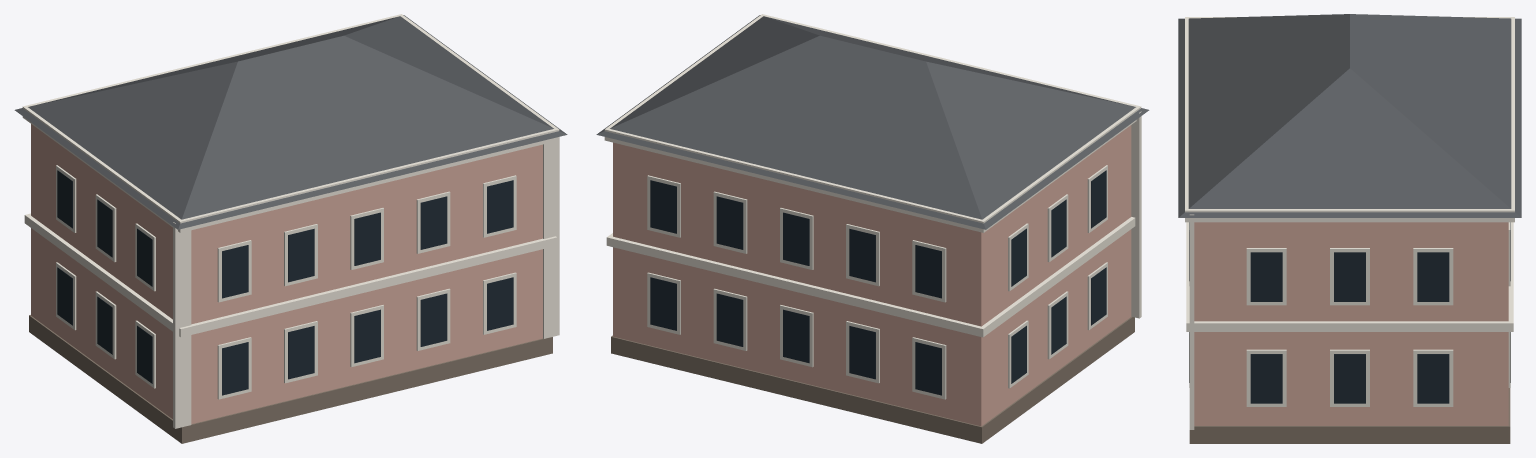
The model's file is old_pink.glb.
3 renders of one model, left to right at view 1: azimuth 30°, elevation 25°; view 2: azimuth 150°, elevation 25°; view 3: azimuth 270°, elevation 25°, orthographic. The views are drawn at different scales.
Visible parts, largest first — view 1: old_pink; view 2: old_pink; view 3: old_pink.
Boxes of the visible parts, <box> form: old_pink: <box>14,14,567,443</box>; old_pink: <box>596,14,1149,443</box>; old_pink: <box>1178,14,1521,443</box>.
Size of the model in its own units: 14.7 by 10.6 by 10.7.
